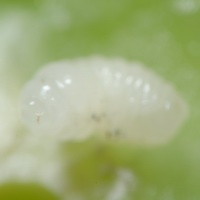insect: (20, 57, 187, 144)
